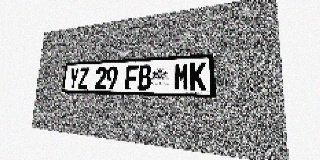2: (95, 66, 107, 89)
9: (106, 66, 118, 89)
B: (138, 64, 151, 90)
F: (125, 65, 138, 90)
K: (190, 62, 206, 91)
M: (174, 63, 189, 91)
Y: (68, 68, 79, 89)
Z: (78, 67, 89, 89)
